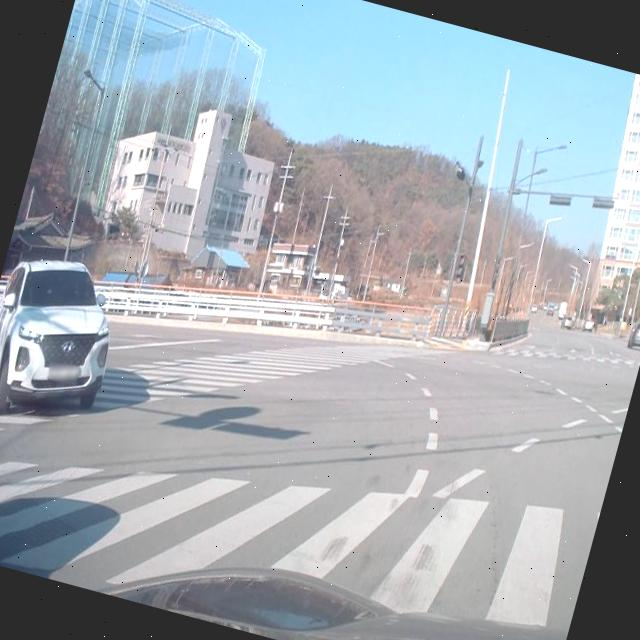crosswalk: (0, 457, 599, 640), (0, 340, 452, 431), (491, 345, 640, 370)
